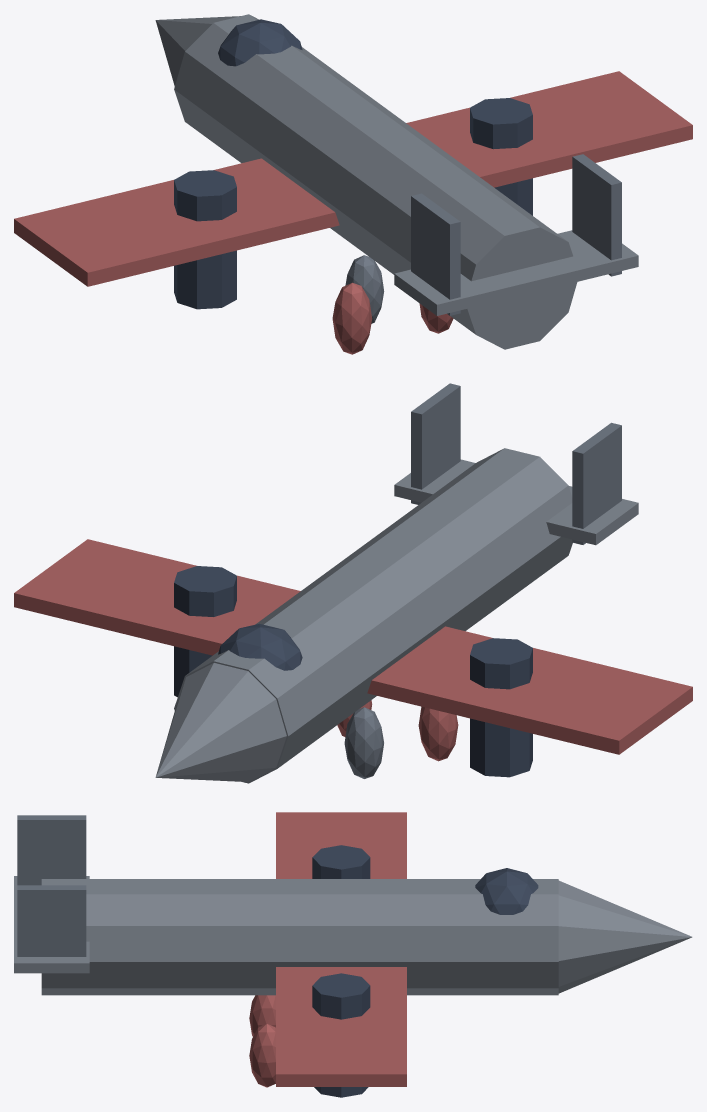
Rendered from enemy_bomber.glb.
3 renders of one model, top to bottom at view 1: azimuth 30°, elevation 25°; view 2: azimuth 150°, elevation 25°; view 3: azimuth 270°, elevation 25°, orthographic. The views are drawn at different scales.
Parts seen in each view (by area): view 1: p0, p3, p4, p7, p5, p6, p8, p2, p9, p1, p11, p10; view 2: p0, p3, p1, p7, p5, p6, p8, p4, p2, p11, p9; view 3: p0, p3, p1, p6, p5, p8, p2, p7, p4, p10, p9.
Part boxes in pixels (x1=…): p0: x1=174, y1=14, x2=577, y2=349; p3: x1=14, y1=71, x2=692, y2=286; p4: x1=394, y1=230, x2=638, y2=315; p7: x1=174, y1=170, x2=236, y2=309; p5: x1=411, y1=193, x2=460, y2=315; p6: x1=572, y1=154, x2=621, y2=276; p8: x1=470, y1=98, x2=532, y2=215; p2: x1=218, y1=19, x2=302, y2=66; p9: x1=332, y1=282, x2=372, y2=354; p1: x1=155, y1=16, x2=240, y2=86; p11: x1=345, y1=255, x2=384, y2=323; p10: x1=419, y1=303, x2=453, y2=333; p0: x1=174, y1=448, x2=572, y2=783; p3: x1=14, y1=539, x2=692, y2=754; p1: x1=155, y1=663, x2=286, y2=781; p7: x1=470, y1=638, x2=532, y2=777; p5: x1=572, y1=422, x2=621, y2=544; p6: x1=411, y1=383, x2=460, y2=504; p8: x1=174, y1=566, x2=236, y2=697; p4: x1=394, y1=459, x2=638, y2=545; p2: x1=218, y1=623, x2=302, y2=670; p11: x1=344, y1=707, x2=383, y2=778; p9: x1=418, y1=706, x2=458, y2=761; p0: x1=41, y1=879, x2=558, y2=995; p3: x1=276, y1=812, x2=406, y2=1086; p1: x1=558, y1=880, x2=692, y2=993; p6: x1=17, y1=885, x2=86, y2=956; p5: x1=17, y1=815, x2=86, y2=885; p8: x1=312, y1=973, x2=370, y2=1097; p2: x1=475, y1=868, x2=538, y2=914; p7: x1=312, y1=845, x2=370, y2=878; p4: x1=14, y1=876, x2=89, y2=973; p10: x1=249, y1=1024, x2=275, y2=1087; p9: x1=249, y1=995, x2=275, y2=1036.
Bounding box in the file's own units: 9 × 3.54 × 9.85.
